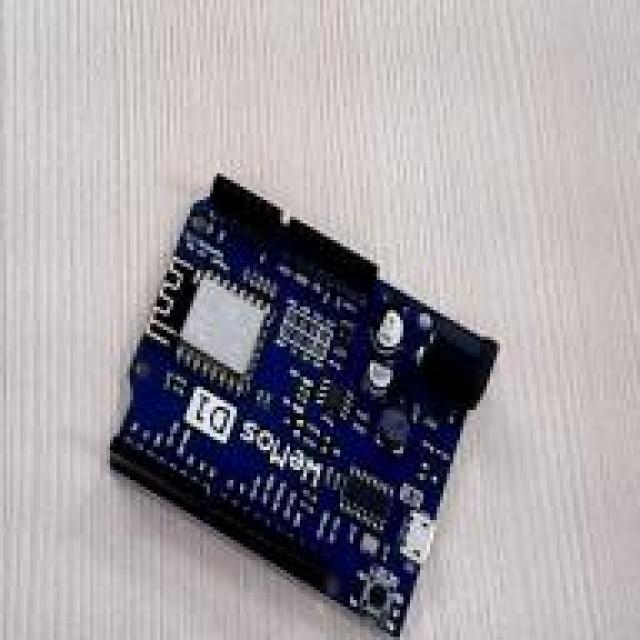Wemos: (111, 174, 498, 634)
